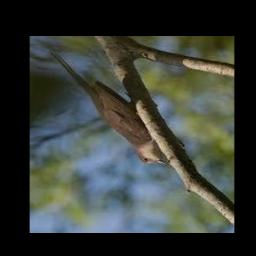Cuckoo: (50, 50, 167, 165)
